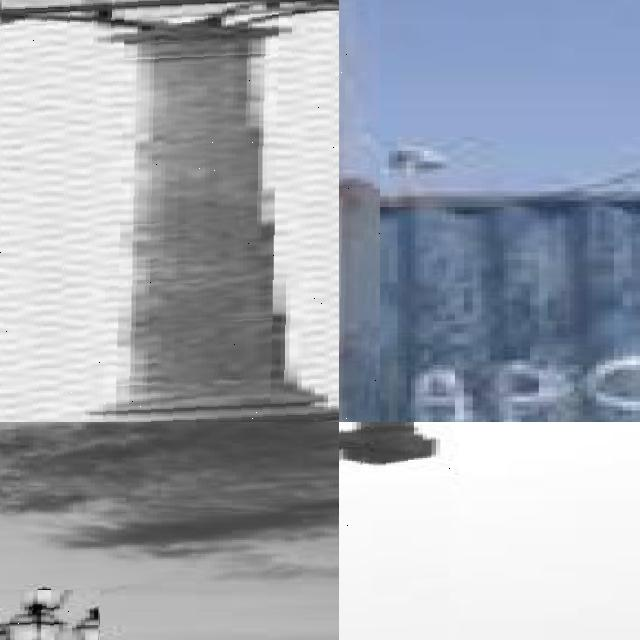street light: (0, 0, 339, 422), (339, 422, 458, 640), (339, 0, 380, 422)
